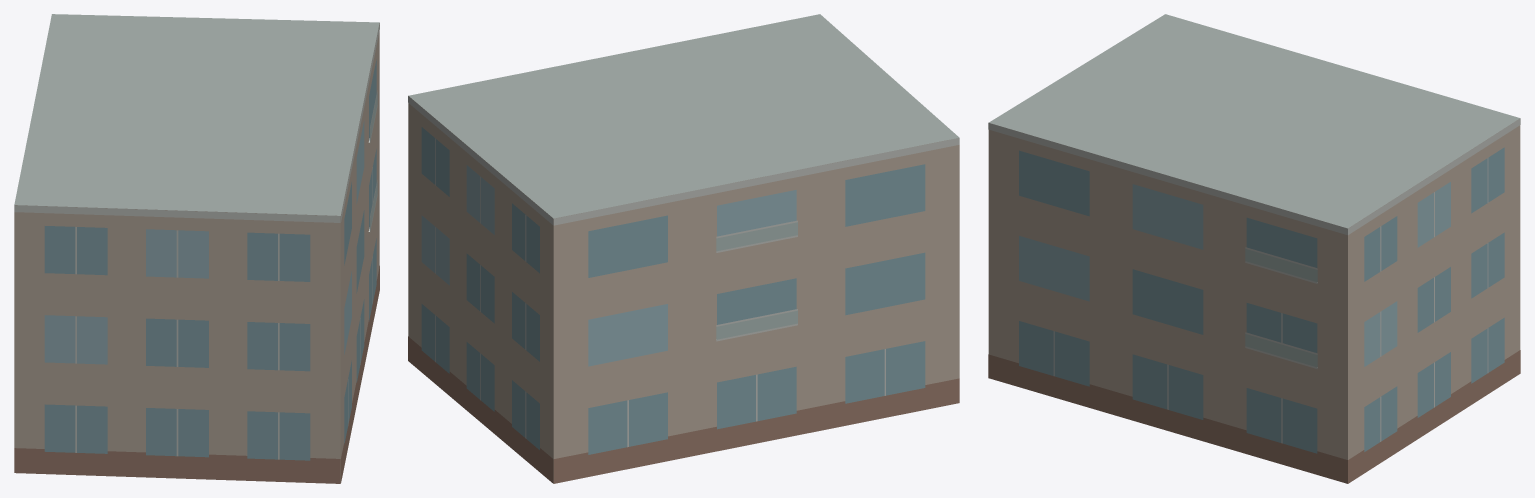
File: survey-upis-32703966.glb
3 renders of one model, left to right at view 1: azimuth 30°, elevation 25°; view 2: azimuth 150°, elevation 25°; view 3: azimuth 270°, elevation 25°, orthographic. The views are drawn at different scales.
Parts seen in each view (by area): view 1: survey-upis-32703966.tmp; view 2: survey-upis-32703966.tmp; view 3: survey-upis-32703966.tmp.
Part boxes in pixels (x1,y1,x2,y2): survey-upis-32703966.tmp: (14, 14, 379, 483); survey-upis-32703966.tmp: (408, 14, 959, 483); survey-upis-32703966.tmp: (988, 14, 1520, 483).
Size of the model in its own units: 16.49 by 9.15 by 17.28.
